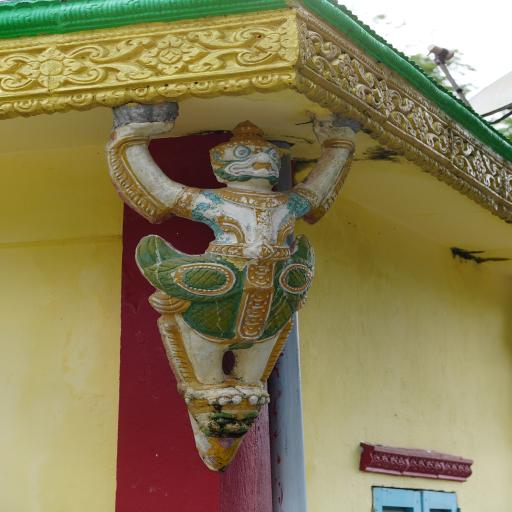hoa: (139, 34, 214, 78), (20, 45, 90, 90), (334, 50, 362, 90), (375, 77, 398, 116), (409, 103, 431, 139), (300, 21, 317, 66), (442, 126, 462, 160), (470, 148, 490, 182)
la: (189, 22, 283, 50), (202, 47, 283, 69), (93, 37, 154, 64), (89, 62, 155, 84)
than: (84, 100, 375, 474)
